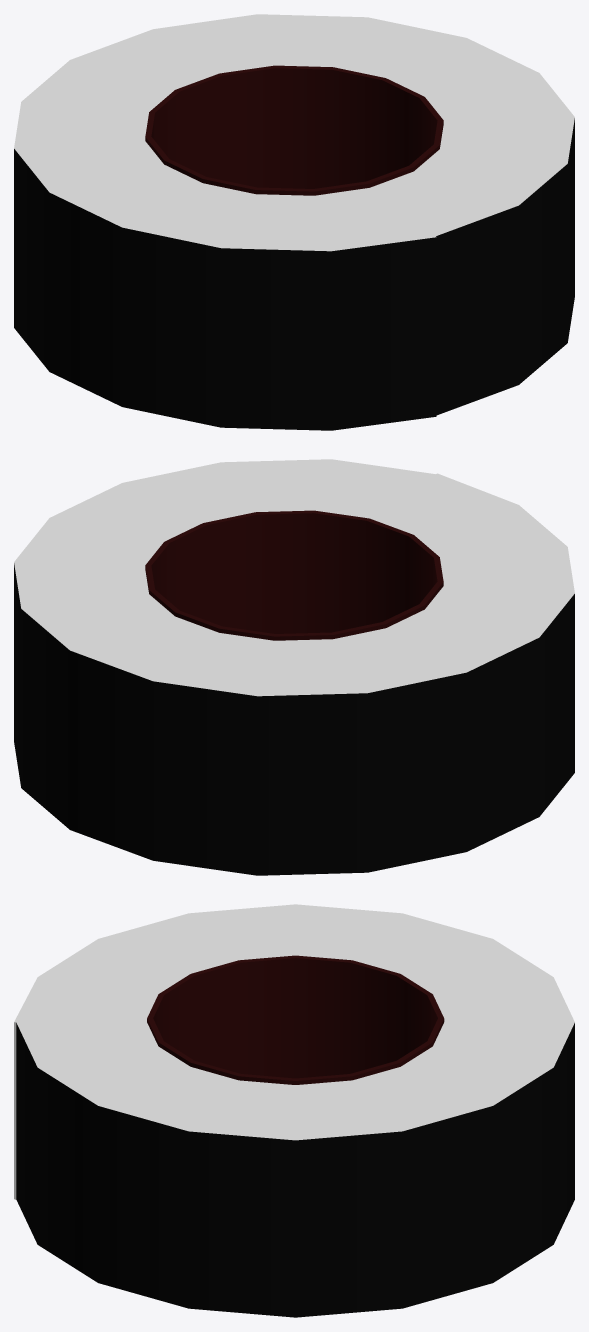
Rendered from Isolasi Hitam.fbx.
3 views of the same model, one above another, from view 1: azimuth 30°, elevation 25°; view 2: azimuth 150°, elevation 25°; view 3: azimuth 270°, elevation 25° (orthographic).
Visible parts, largest first — view 1: Cylinder; view 2: Cylinder; view 3: Cylinder.
Part boxes in pixels (bbox=[...]): Cylinder: bbox=[14, 14, 574, 430]; Cylinder: bbox=[14, 459, 574, 875]; Cylinder: bbox=[14, 904, 574, 1317].
Bounding box in the file's own units: 10 × 3.65 × 10.04.
